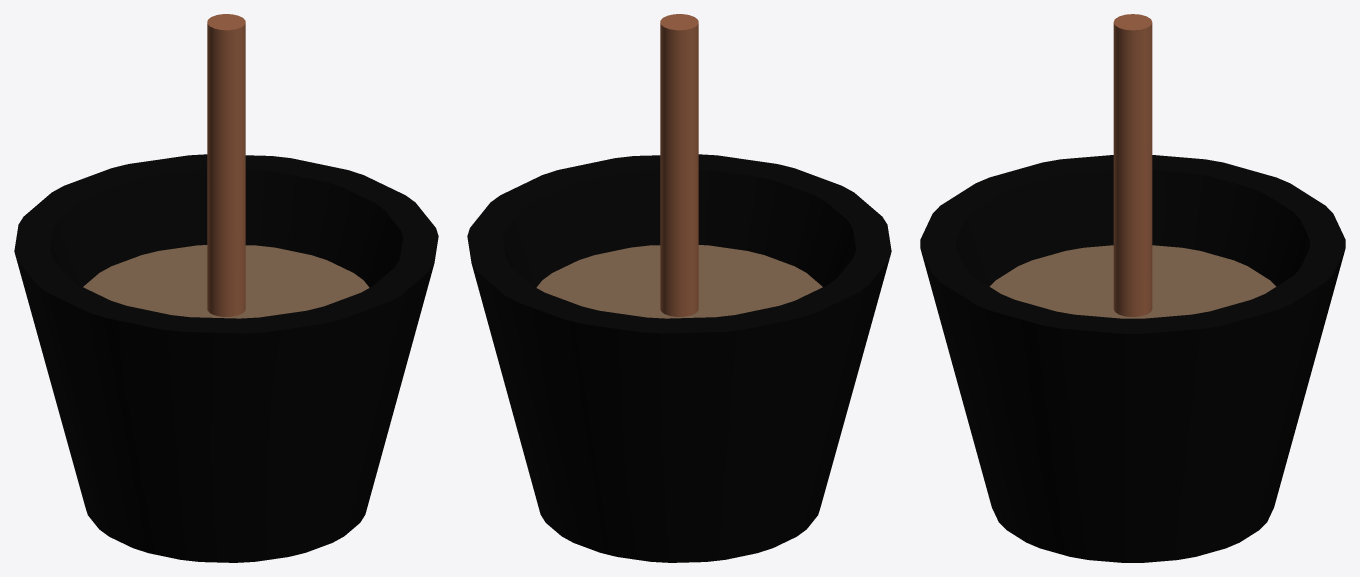
Rendered from Torratxa.fbx.
3 renders of one model, left to right at view 1: azimuth 30°, elevation 25°; view 2: azimuth 150°, elevation 25°; view 3: azimuth 270°, elevation 25°, orthographic.
Parts seen in each view (by area): view 1: Cylinder.010; view 2: Cylinder.010; view 3: Cylinder.010.
Boxes of the visible parts, x1,y1,x2,y2 form: Cylinder.010: (14,14,438,562); Cylinder.010: (467,14,891,562); Cylinder.010: (920,14,1345,562).
Size of the model in its own units: 1.19 by 1.48 by 1.19.
